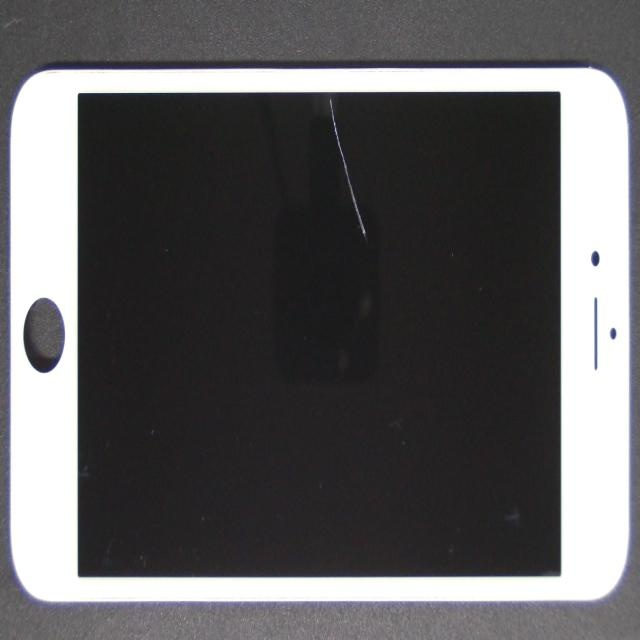scratch: (129, 0, 488, 220)
